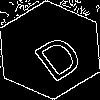D: (25, 25, 87, 84)
